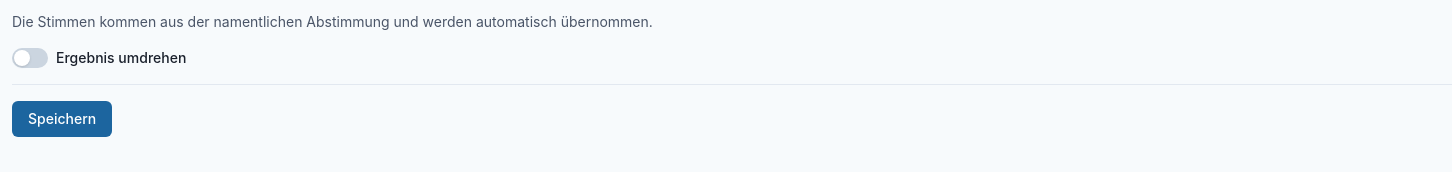
Test case: VoteResultsFormNamedPoll › confirms a successful save
The width and height of the screenshot is (1452, 172).
Click the button "Speichern" at point(62, 119), box x1=12 y1=101 x2=112 y2=137
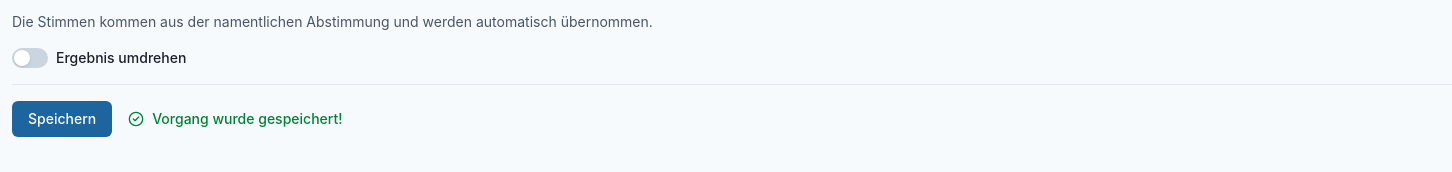
Expected: the text "Vorgang wurde gespeichert!" is shown, x1=128 y1=109 x2=342 y2=129
